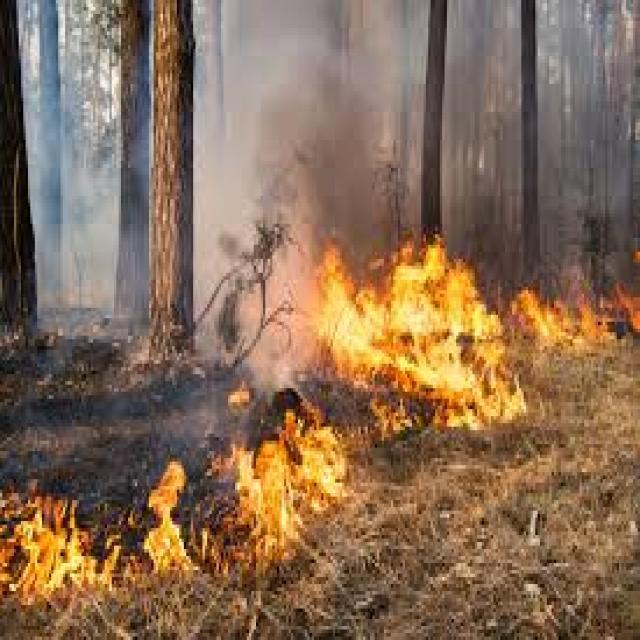Fire: (317, 243, 530, 443), (329, 245, 640, 358), (229, 414, 348, 566), (0, 472, 124, 612), (138, 456, 202, 576)
Smoke: (258, 23, 404, 274), (40, 69, 118, 350)
